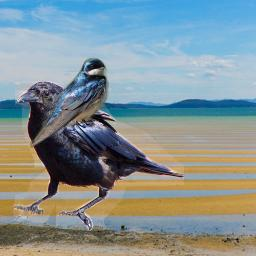Crow: (13, 81, 184, 231)
Swallow: (30, 56, 109, 149)
